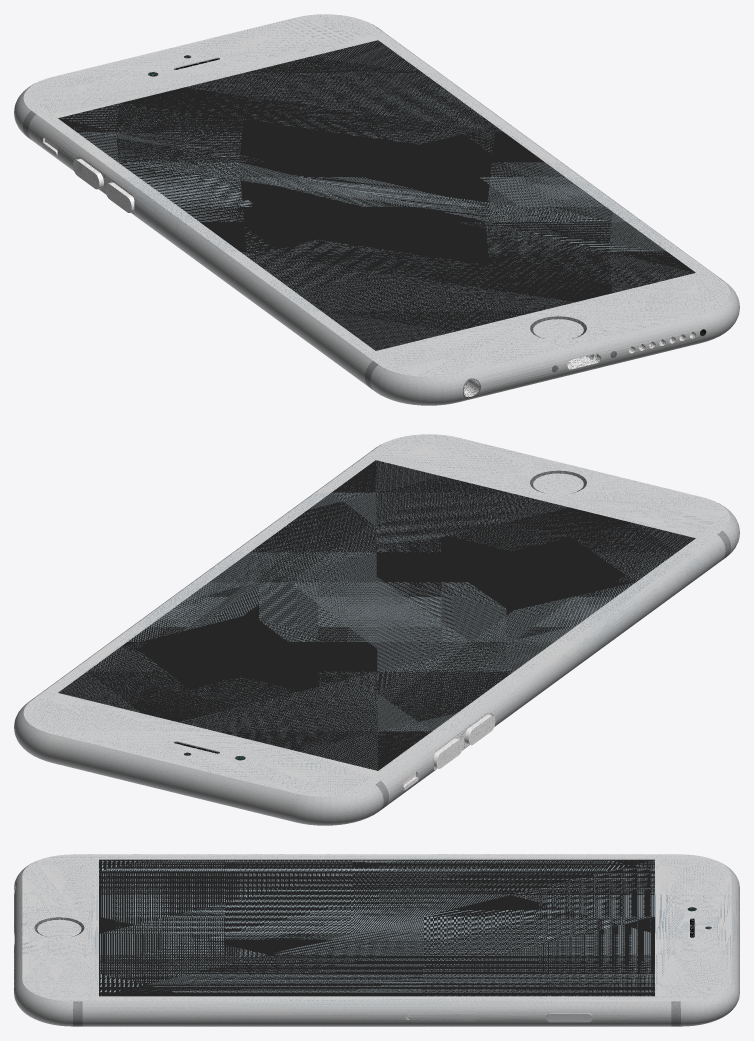
The picture shows the model from 3 angles, top to bottom: view 1: azimuth 30°, elevation 25°; view 2: azimuth 150°, elevation 25°; view 3: azimuth 270°, elevation 25°; orthographic projection. The views are drawn at different scales.
Visible parts, largest first — view 1: iPhone6 (×5); view 2: iPhone6 (×5); view 3: iPhone6 (×6).
Part boxes in pixels (left/top/right/bottom): iPhone6 (×5): left=23, top=14, right=739, bottom=405; iPhone6 (×5): left=14, top=434, right=730, bottom=825; iPhone6 (×6): left=14, top=854, right=739, bottom=1026.
Bounding box in the file's own units: 31.23 × 61.65 × 2.64.
